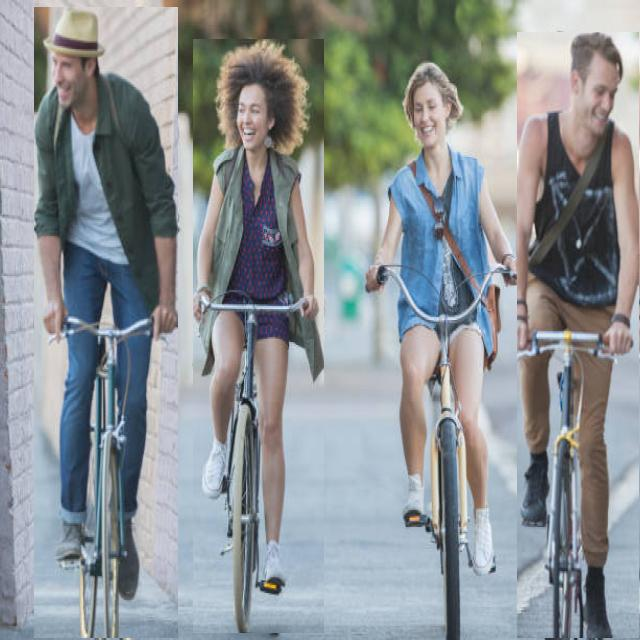bicycle: (35, 7, 178, 638), (366, 62, 516, 638), (194, 39, 324, 633), (518, 32, 639, 638)
